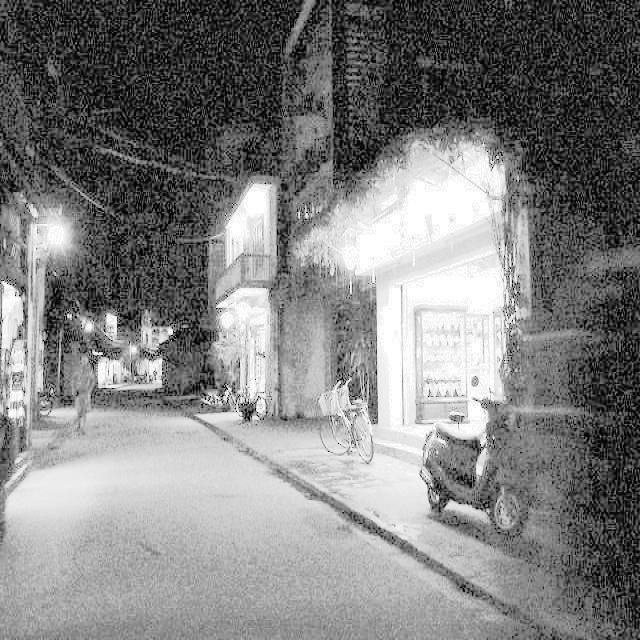Bicycle: (315, 375, 382, 464), (230, 374, 271, 418)
Motorcycle: (419, 379, 531, 532)
Person: (69, 354, 98, 440)
